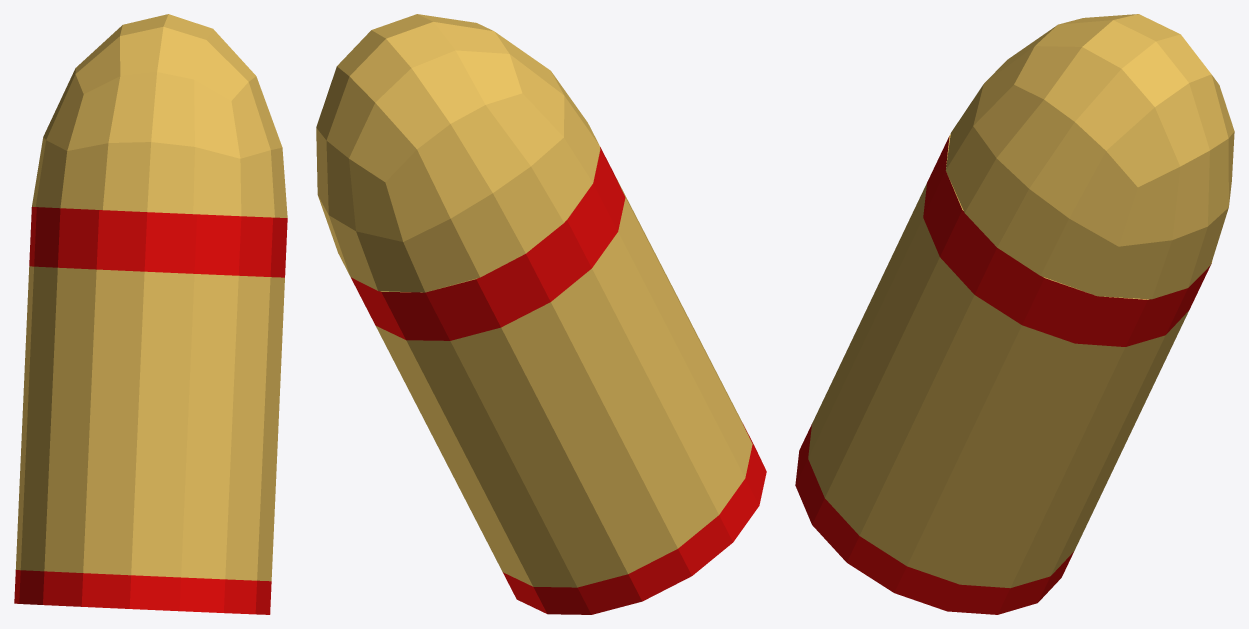
File: gun_power_up.fbx
3 views of the same model, side by side, from view 1: azimuth 30°, elevation 25°; view 2: azimuth 150°, elevation 25°; view 3: azimuth 270°, elevation 25° (orthographic). The views are drawn at different scales.
Parts seen in each view (by area): view 1: Roundcube.002; view 2: Roundcube.002; view 3: Roundcube.002.
Boxes of the visible parts, x1,y1,x2,y2 form: Roundcube.002: [14, 14, 287, 614]; Roundcube.002: [316, 14, 766, 614]; Roundcube.002: [795, 14, 1234, 614].
Bounding box in the file's own units: 141 × 241 × 158.
